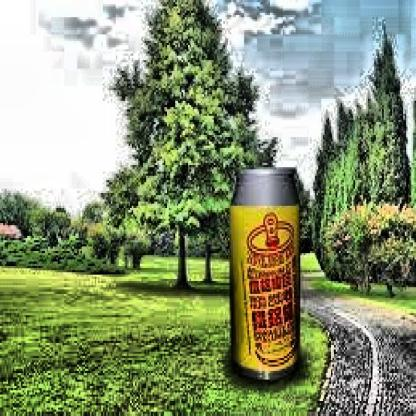Can: (228, 161, 304, 385)
